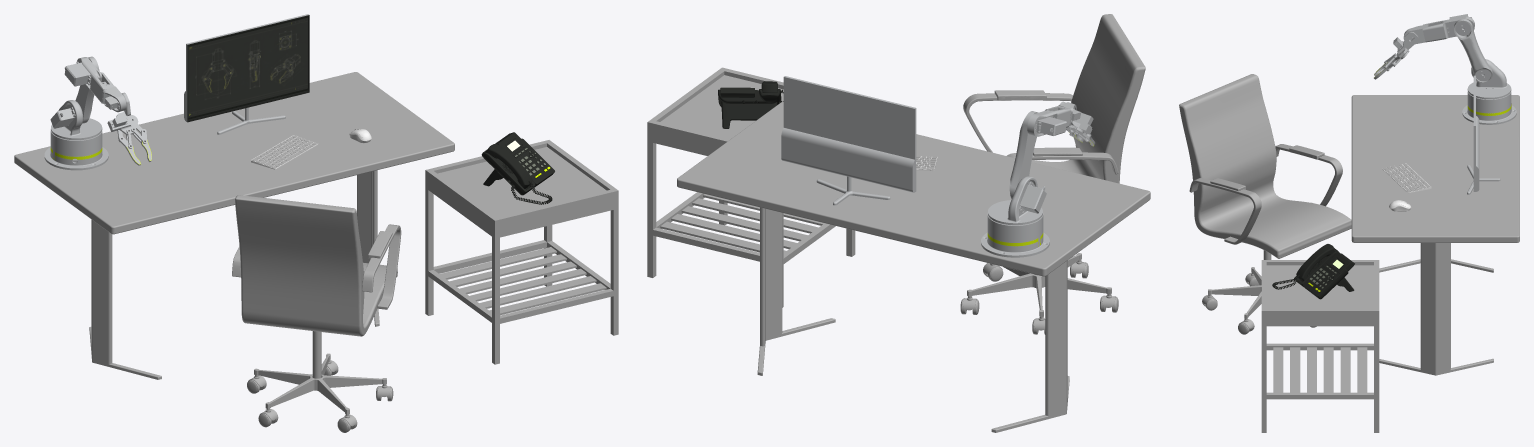
Rendered from portfolio-scene.glb.
3 renders of one model, left to right at view 1: azimuth 30°, elevation 25°; view 2: azimuth 150°, elevation 25°; view 3: azimuth 270°, elevation 25°, orthographic. The views are drawn at different scales.
Parts seen in each view (by area): view 1: desk, chair, cabinet, monitor, robot_arm, telephone, keyboard; view 2: desk, chair, cabinet, monitor, robot_arm, telephone; view 3: desk, chair, cabinet, robot_arm, telephone, monitor, keyboard.
Boxes of the visible parts, box(x1,y1,x2,y2) form: desk: box(14, 72, 454, 379); chair: box(232, 195, 401, 432); cabinet: box(425, 140, 618, 364); monitor: box(184, 14, 309, 134); robot_arm: box(44, 56, 151, 170); telephone: box(481, 132, 554, 204); keyboard: box(251, 135, 318, 169); desk: box(677, 102, 1150, 432); chair: box(960, 14, 1145, 334); cabinet: box(647, 67, 855, 307); monitor: box(781, 76, 916, 205); robot_arm: box(981, 101, 1095, 257); telephone: box(718, 81, 783, 128); desk: box(1351, 95, 1519, 375); chair: box(1179, 74, 1351, 334); cabinet: box(1261, 260, 1379, 432); robot_arm: box(1374, 14, 1516, 124); telephone: box(1272, 244, 1354, 299); monitor: box(1467, 75, 1500, 194); keyboard: box(1382, 163, 1431, 193).
Size of the model in its own units: 1.98 by 1.2 by 1.52.
16 materials, 4 textured.
